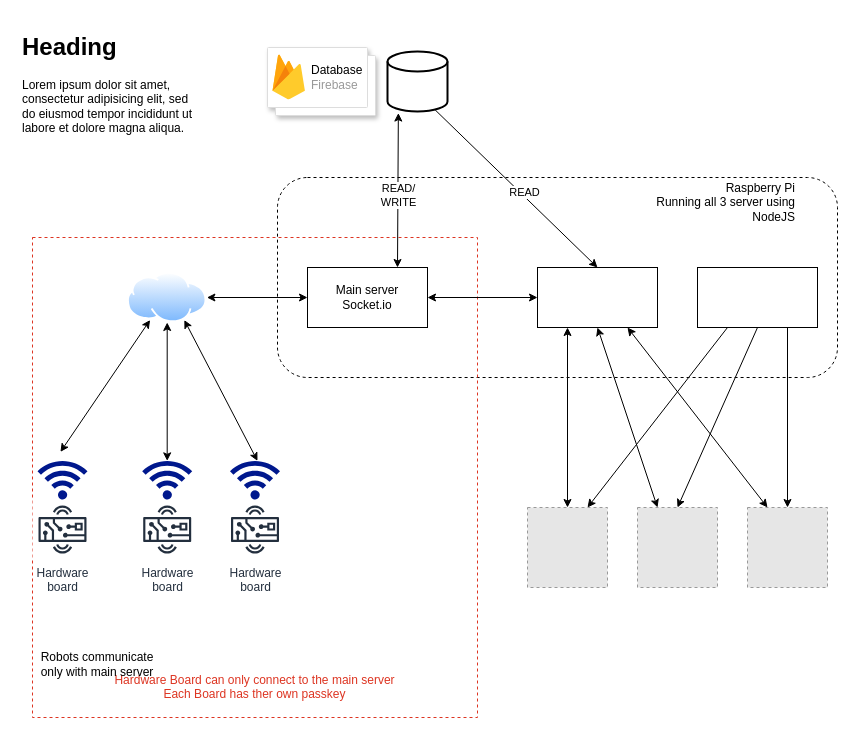
The diagram is 855 pixels wide and 735 high, and some of its shapes have lost their labels. Grey dashed boxes stand in for pictures. Each missing label, with the centre of its shape:
GUI connection Socket.io: the point at 597,297
HTTP Server Supplys the webpage to clients: the point at 757,297
